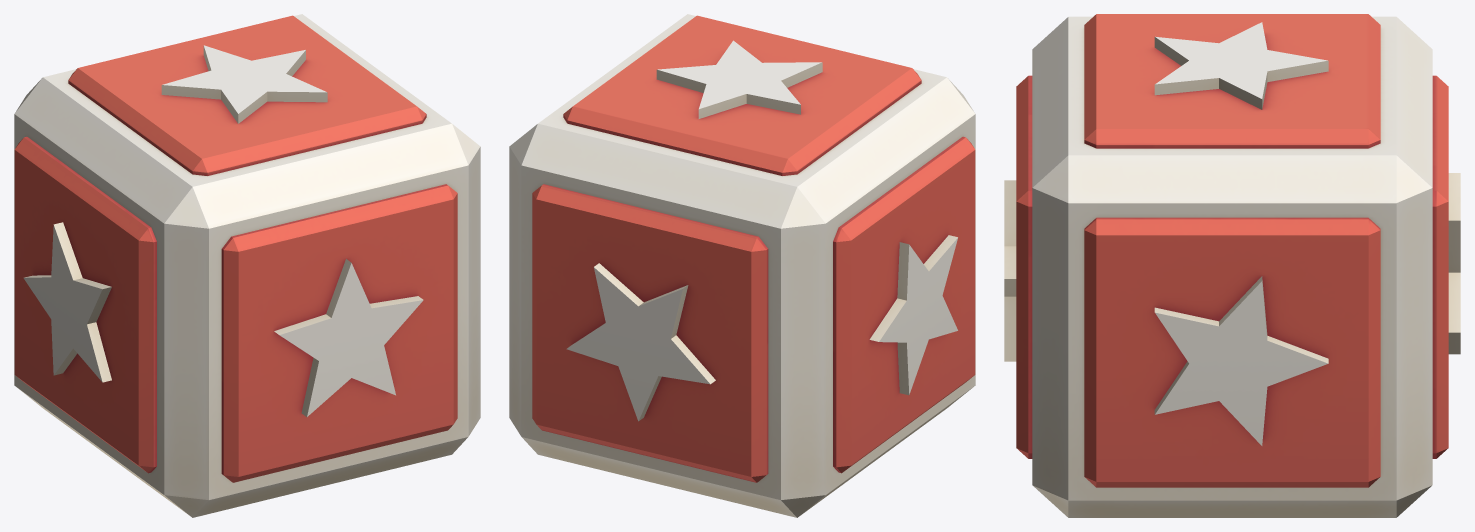
File: toy_block_red.glb
3 views of the same model, side by side, from view 1: azimuth 30°, elevation 25°; view 2: azimuth 150°, elevation 25°; view 3: azimuth 270°, elevation 25° (orthographic). The views are drawn at different scales.
Parts seen in each view (by area): view 1: prop; view 2: prop; view 3: prop.
Part boxes in pixels (bbox=[...]): prop: bbox=[14, 14, 480, 517]; prop: bbox=[509, 14, 975, 517]; prop: bbox=[1004, 14, 1460, 517].
Size of the model in its own units: 1.14 by 1.07 by 1.14.
Materials: 1 (1 with a texture image).
